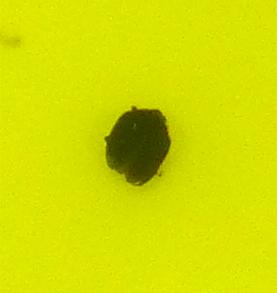Coleoptera: (100, 100, 177, 193)
